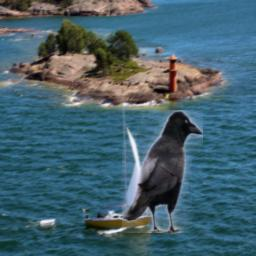Crow: (122, 110, 203, 233)
